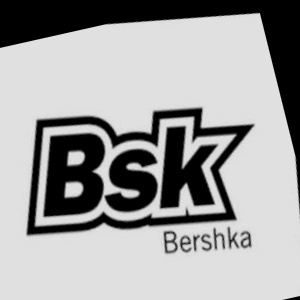bershka: (217, 24, 266, 92)
